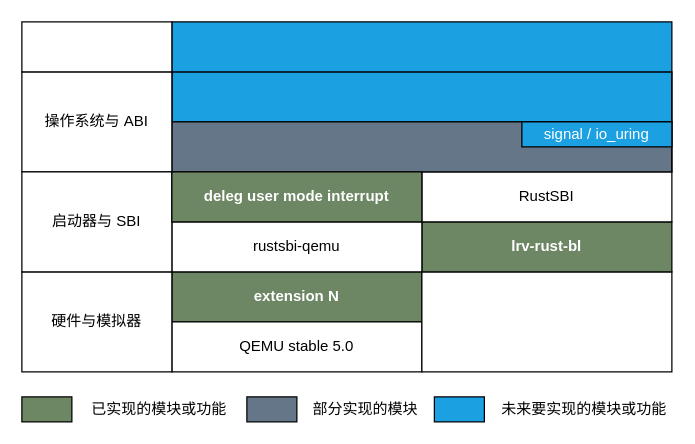
This 695x444 diagram has some shape labels left out. The box of each missing label's shape, as (x1, y1, x2, y2) in pixels:
ABI: (171, 71, 672, 122)
Application: (171, 21, 672, 72)
Labeled RISC-V FPGA: (421, 271, 672, 372)
uCore-SMP / rCore: (171, 121, 672, 172)
应用程序: (21, 21, 172, 72)
